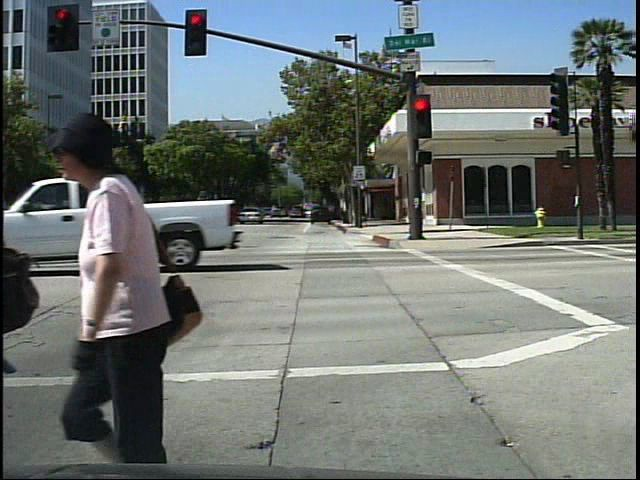person: (42, 108, 220, 470)
